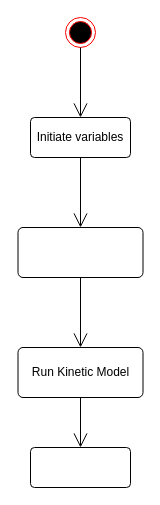
The diagram is 160 pixels wide and 505 high, and some of its shapes have lost their labels. The centre of each missing label's shape, as x and y in pixels:
"Save generated data into csv" goes at (80,467).
"Simulate Kinetic Model" goes at (80,252).
